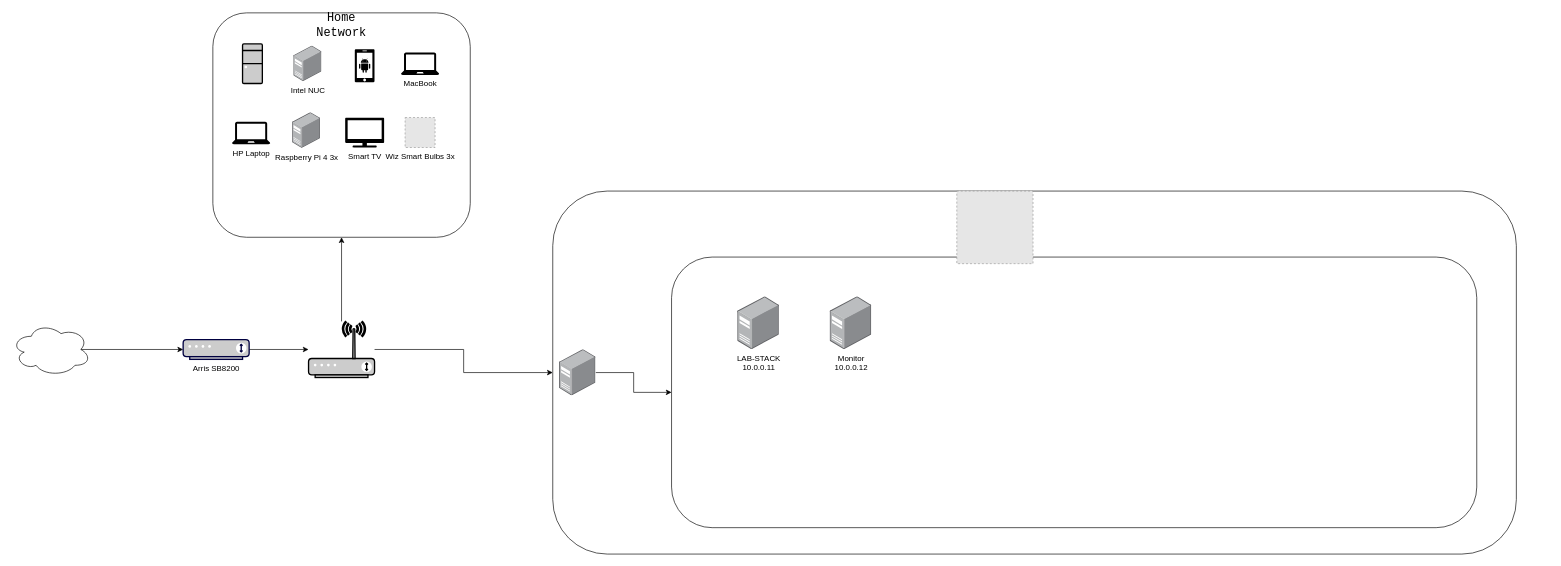
This 1561x566 diagram has some shape labels left out. Grey dashed boxes stand in for pictures. Here are the shapes that lost their labels. From the top down, the box of each, then its label:
(242, 43, 263, 84): Nathan-Desktop
(354, 49, 374, 82): Pixel 6
(11, 322, 91, 376): Comcast
(308, 320, 375, 378): Netgear R6700
(559, 349, 595, 395): LAB-OPN
